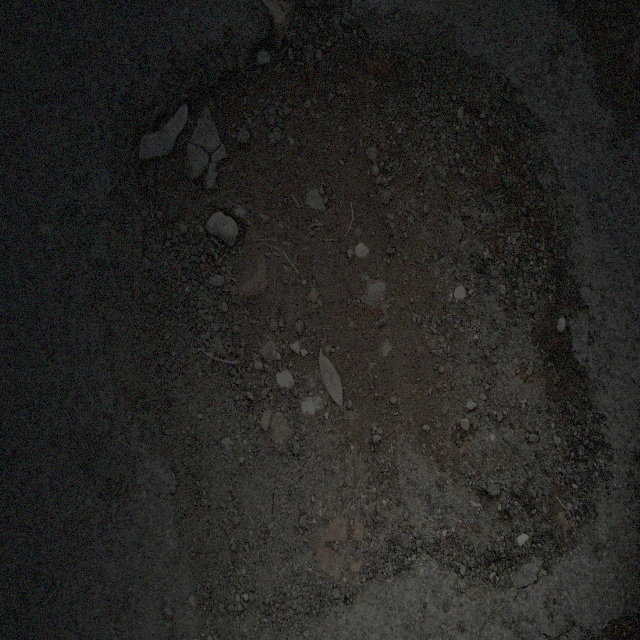pothole: (101, 16, 614, 574)
